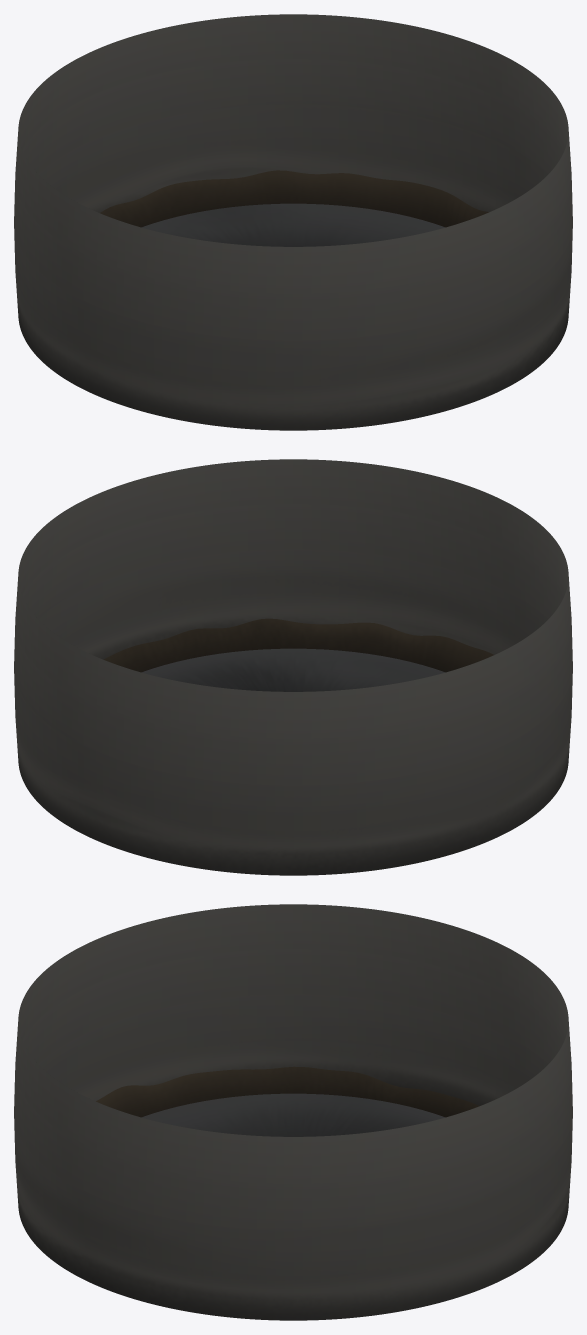
The model's file is incline-panorama.glb.
3 views of the same model, one above another, from view 1: azimuth 30°, elevation 25°; view 2: azimuth 150°, elevation 25°; view 3: azimuth 270°, elevation 25° (orthographic).
Visible parts, largest first — view 1: InclinePanorama; view 2: InclinePanorama; view 3: InclinePanorama.
Part boxes in pixels (x1,y1,x2,y2): InclinePanorama: [14, 14, 572, 430]; InclinePanorama: [14, 459, 572, 875]; InclinePanorama: [14, 904, 572, 1320].
Size of the model in its own units: 386 by 140 by 386.
1 material, 1 textured.
